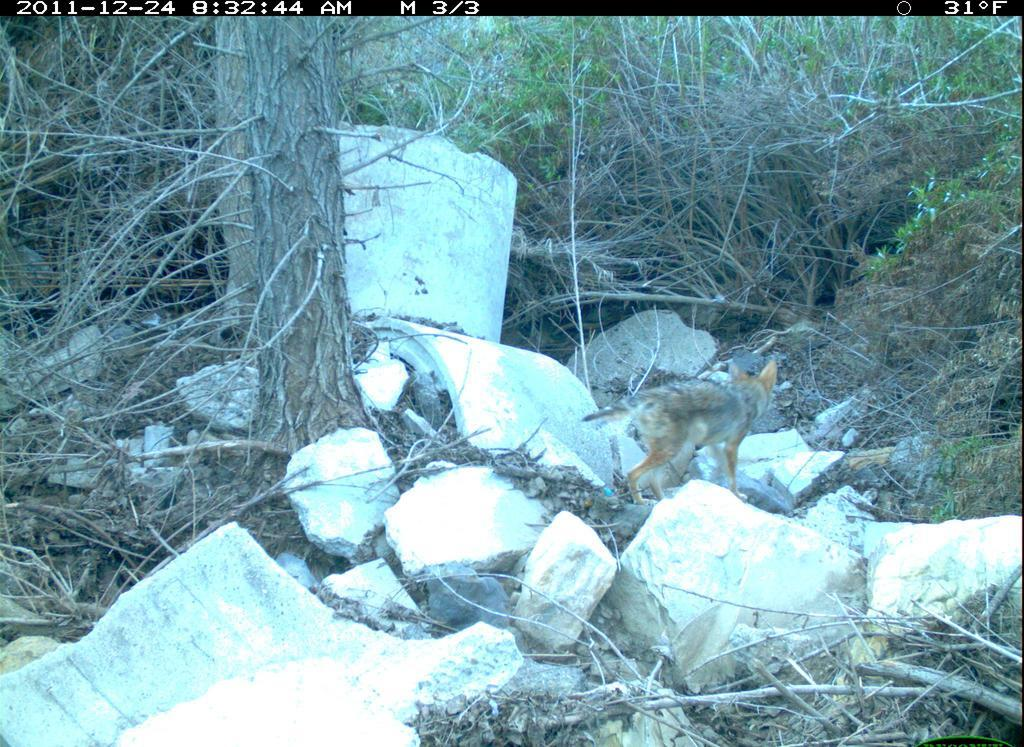coyote: (571, 337, 806, 514)
